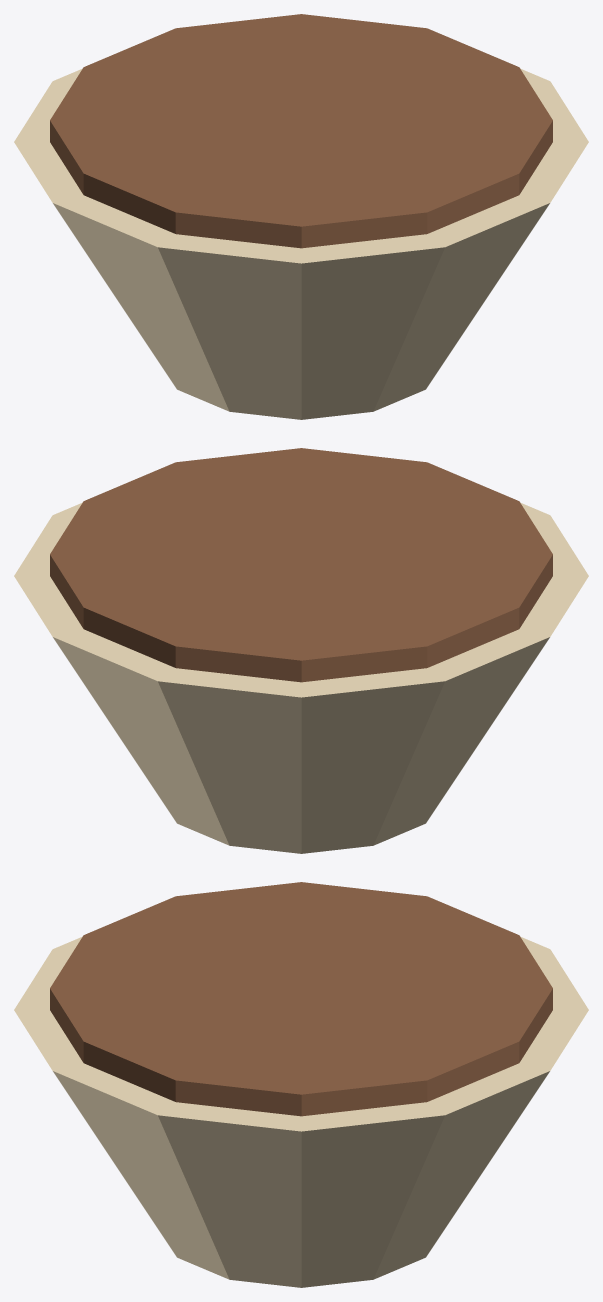
Rendered from SM_CH_Paper_Bowl.fbx.
The picture shows the model from 3 angles, top to bottom: view 1: azimuth 30°, elevation 25°; view 2: azimuth 150°, elevation 25°; view 3: azimuth 270°, elevation 25°; orthographic projection.
Parts seen in each view (by area): view 1: SM_CH_Paper_Bowl; view 2: SM_CH_Paper_Bowl; view 3: SM_CH_Paper_Bowl.
Boxes of the visible parts, box(x1,y1,x2,y2) form: SM_CH_Paper_Bowl: box(14, 14, 588, 419); SM_CH_Paper_Bowl: box(14, 448, 588, 853); SM_CH_Paper_Bowl: box(14, 882, 588, 1287).
Bounding box in the file's own units: 4800 × 4800 × 2200.
